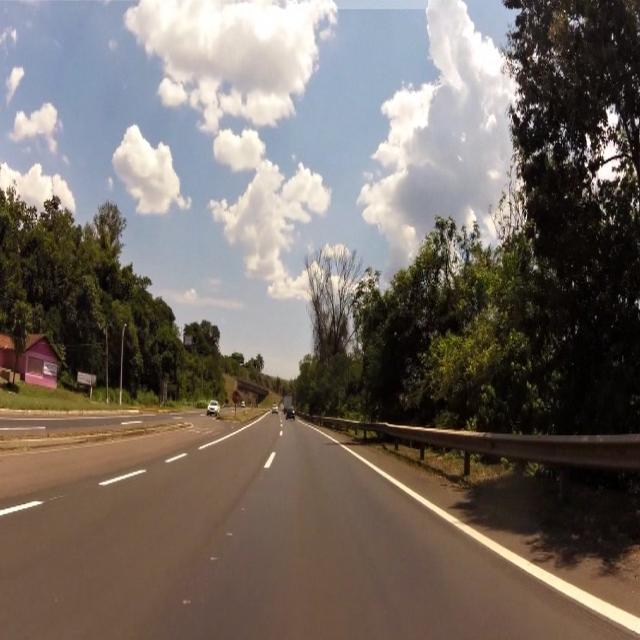R-1: (232, 393, 242, 404)
